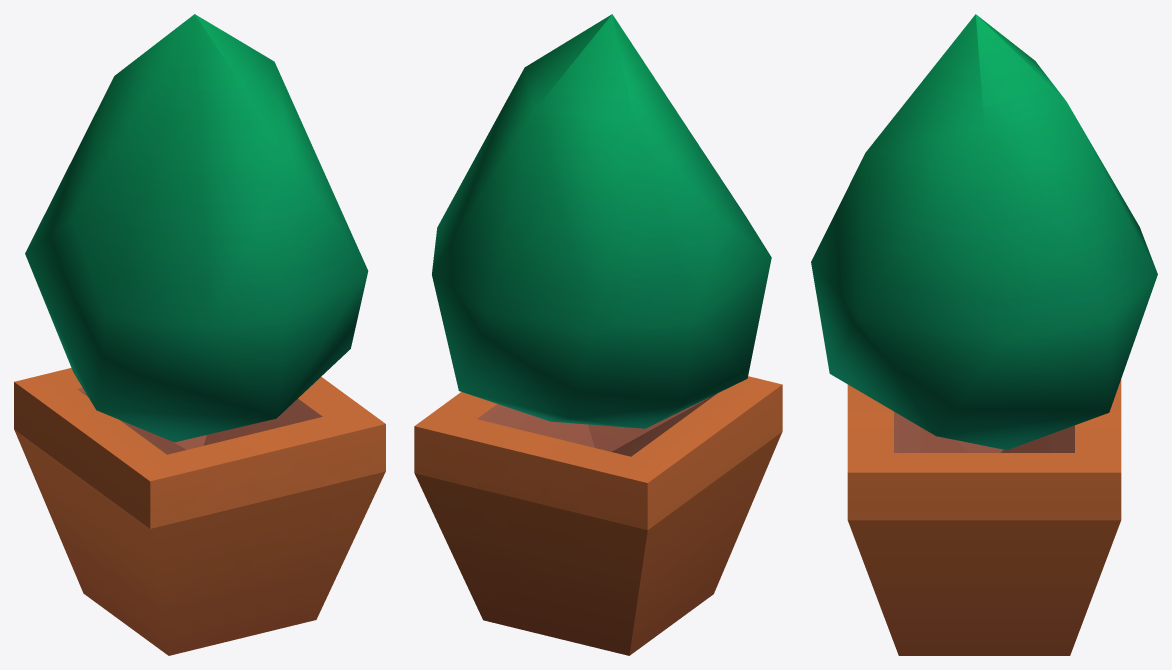
The model's file is bush.glb.
The picture shows the model from 3 angles, left to right: view 1: azimuth 30°, elevation 25°; view 2: azimuth 150°, elevation 25°; view 3: azimuth 270°, elevation 25°; orthographic projection.
Visible parts, largest first — view 1: bush; view 2: bush; view 3: bush.
Boxes of the visible parts, <box> form: bush: <box>14,14,385,655</box>; bush: <box>414,14,782,655</box>; bush: <box>811,14,1157,655</box>.
Bounding box in the file's own units: 0.1894 × 0.3805 × 0.1991.
Materials: 1 (1 with a texture image).
